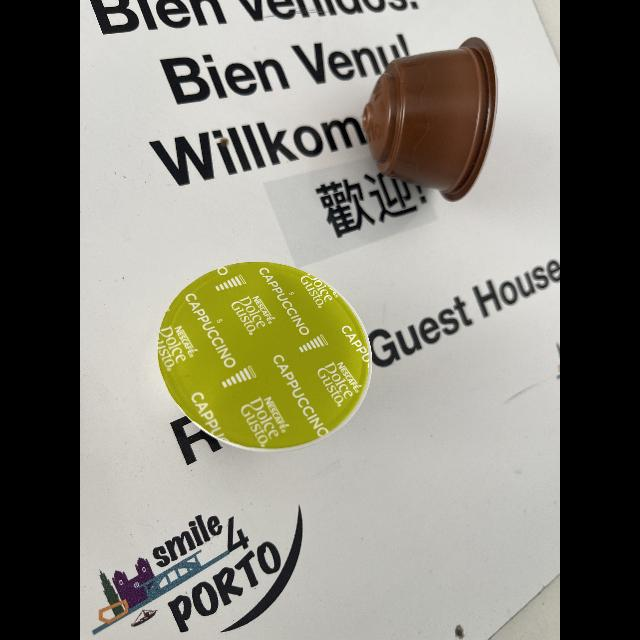intact_capsule: (142, 245, 384, 463), (350, 26, 514, 210)
